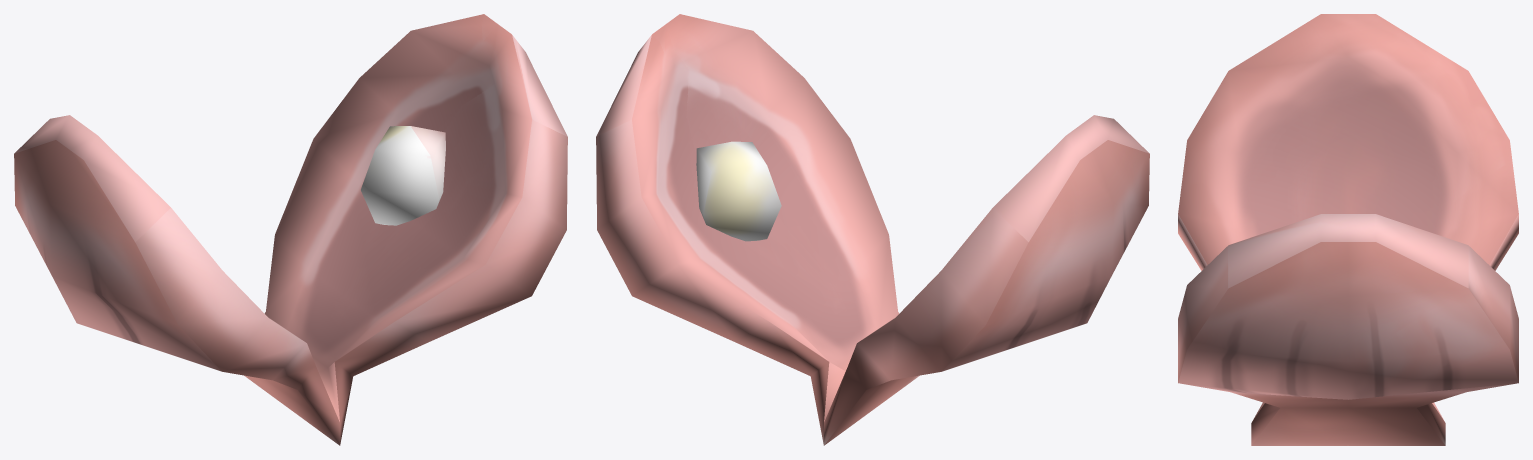
3 renders of one model, left to right at view 1: azimuth 30°, elevation 25°; view 2: azimuth 150°, elevation 25°; view 3: azimuth 270°, elevation 25°, orthographic.
Parts seen in each view (by area): view 1: 立方體; view 2: 立方體; view 3: 立方體.
Part boxes in pixels (x1,y1,x2,y2): 立方體: (14, 14, 567, 445); 立方體: (596, 14, 1149, 445); 立方體: (1178, 14, 1518, 445).
Bounding box in the file's own units: 951 × 645 × 600.
Materials: 1 (1 with a texture image).
